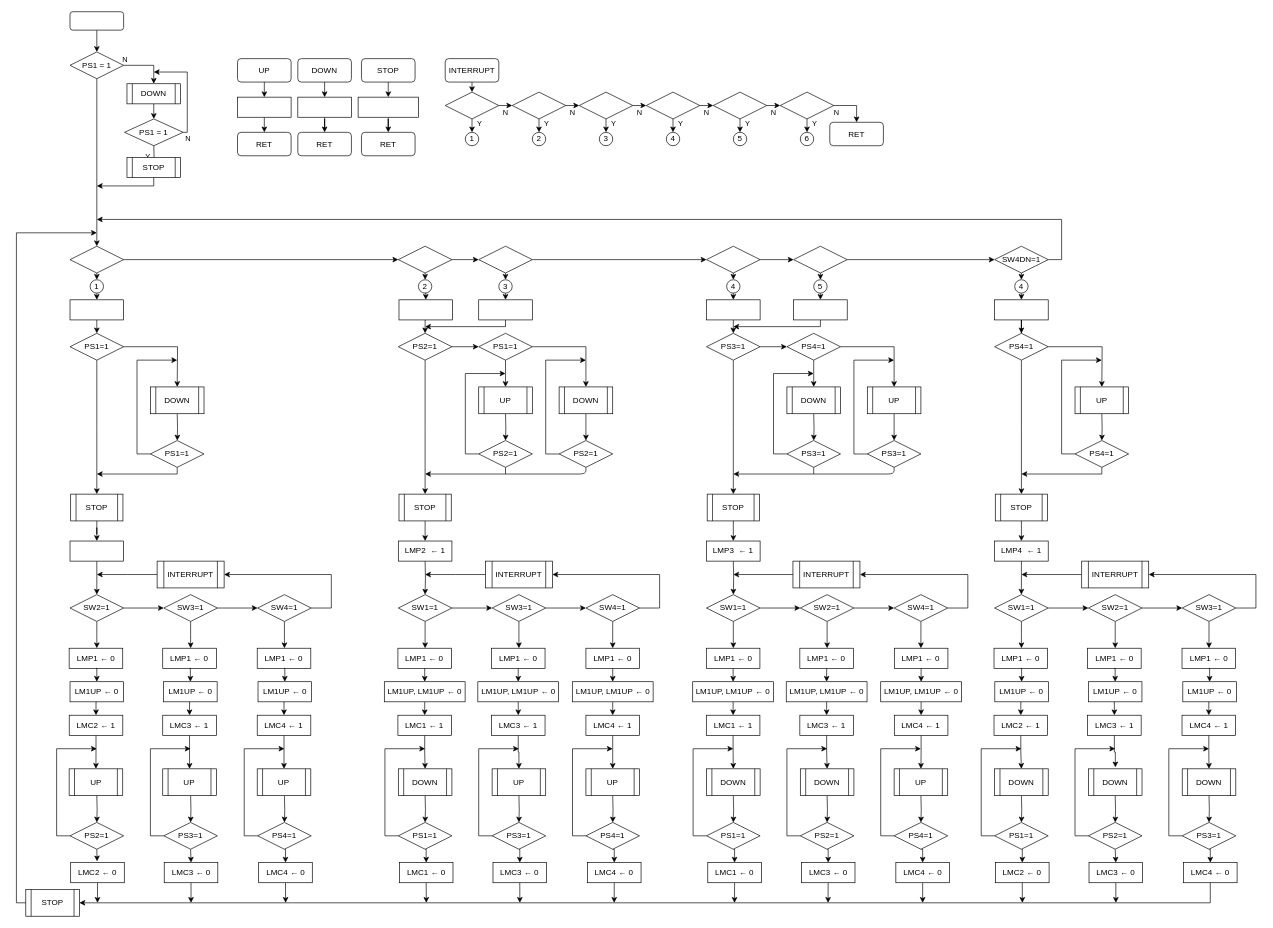
Image size: 1273x928. Some labels were removed from this diagram. Each missing label, with the centre of its shape:
LM1UP ← 1: the point at 96,309
LM2DN ← 1: the point at 505,309
LM2UP ← 1: the point at 425,309
LM3DN ← 1: the point at 820,309
LM3UP ← 1: the point at 733,309
LM4DN ← 1: the point at 1021,309
LMP1 ← 1: the point at 96,550
MDN ← 1: the point at 324,106
MUP ← 1: the point at 264,106
MUP, MDN ← 0: the point at 387,106
START: the point at 96,20
SW1UP = 1: the point at 472,105
SW1UP=1: the point at 96,259
SW2DN = 1: the point at 606,105
SW2DN=1: the point at 505,259
SW2UP = 1: the point at 539,105
SW2UP=1: the point at 425,259
SW3DN = 1: the point at 740,105
SW3DN=1: the point at 820,259
SW3UP = 1: the point at 673,105
SW3UP=1: the point at 733,259
SW4DN = 1: the point at 807,105
